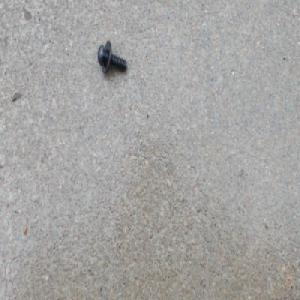BoltWasher: (96, 39, 127, 75)
